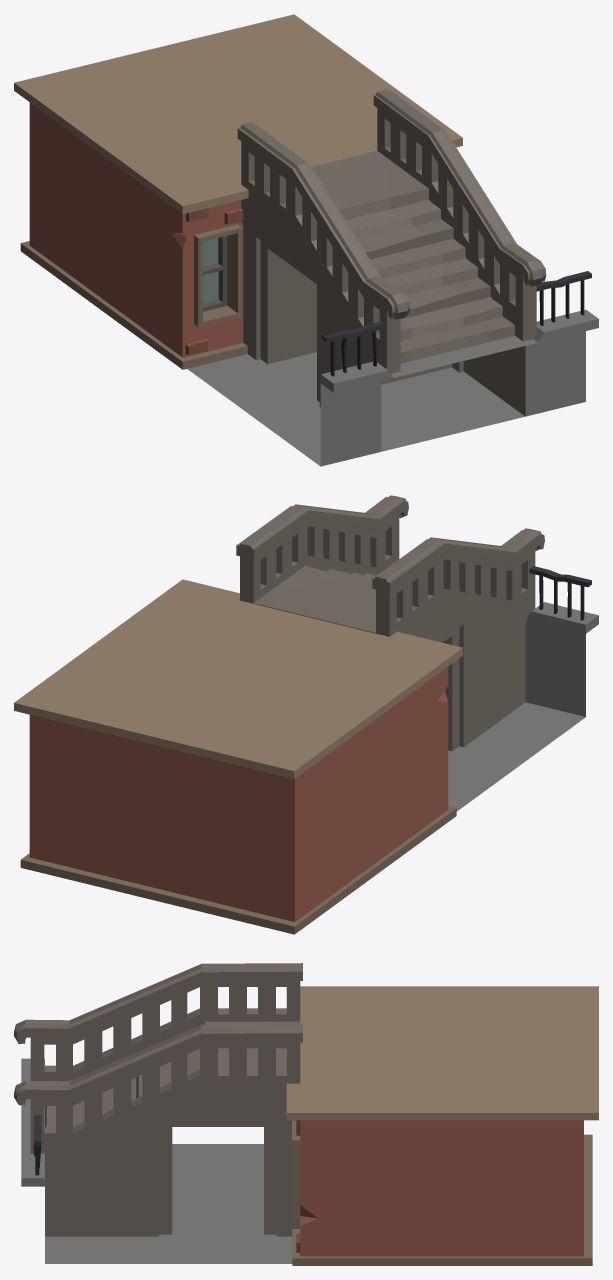
Rendered from SM_Bld_Apartment_Stairs_01.fbx.
3 views of the same model, one above another, from view 1: azimuth 30°, elevation 25°; view 2: azimuth 150°, elevation 25°; view 3: azimuth 270°, elevation 25° (orthographic). The views are drawn at different scales.
Parts seen in each view (by area): view 1: SM_Bld_Apartment_Stairs_01; view 2: SM_Bld_Apartment_Stairs_01; view 3: SM_Bld_Apartment_Stairs_01.
Boxes of the visible parts, box(x1,y1,x2,y2) form: SM_Bld_Apartment_Stairs_01: box(14, 14, 598, 466); SM_Bld_Apartment_Stairs_01: box(14, 495, 598, 934); SM_Bld_Apartment_Stairs_01: box(14, 963, 598, 1265).
Size of the model in its own units: 528 by 405 by 1031.
